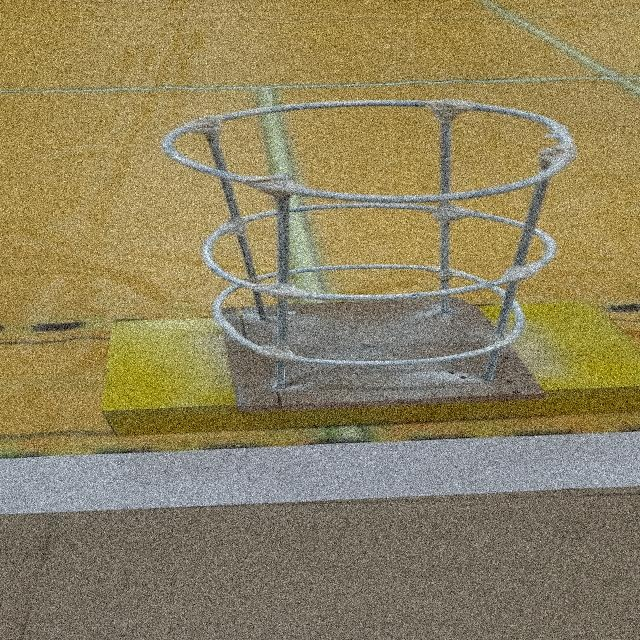silo: (134, 84, 602, 420)
